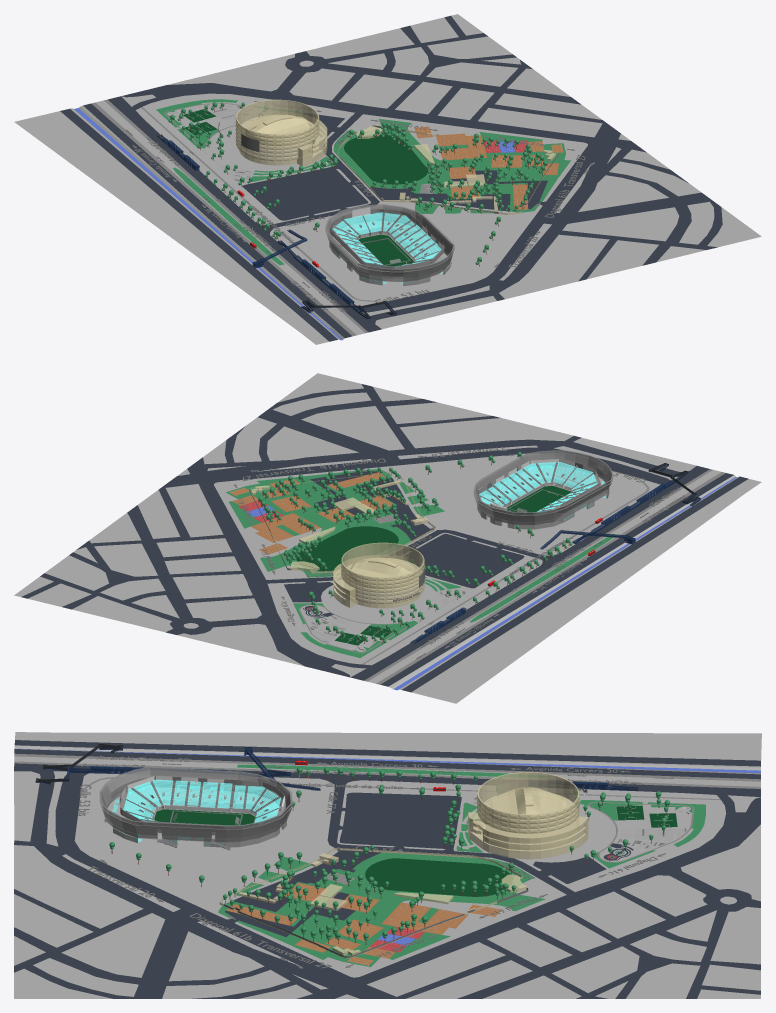
3 views of the same model, one above another, from view 1: azimuth 30°, elevation 25°; view 2: azimuth 150°, elevation 25°; view 3: azimuth 270°, elevation 25° (orthographic). The views are drawn at different scales.
Visible parts, largest first — view 1: Plane, Circle, nivel3, Text.006, planta2, suelorender2, 14393, Cube.005, Cube, plantabaja; view 2: Plane, Circle, nivel3, planta2, Text.006, suelorender2, 14393, Cube, plantabaja; view 3: Plane, Circle, nivel3, planta2, Text.006, suelorender2, 14393, plantabaja, Cube.005, Cube, piso1.001, Cube.014 (+4 smaller).
Part boxes in pixels (box(x1,y1,x2,y2)): Plane: box(14, 14, 761, 344); Circle: box(235, 99, 327, 166); nivel3: box(325, 204, 454, 278); Text.006: box(125, 102, 585, 311); planta2: box(325, 207, 454, 281); suelorender2: box(333, 221, 451, 281); 14393: box(252, 230, 396, 319); Cube.005: box(330, 209, 444, 270); Cube: box(342, 224, 430, 267); plantabaja: box(329, 219, 451, 285); Plane: box(14, 373, 761, 703); Circle: box(333, 542, 424, 608); nivel3: box(473, 450, 613, 521); planta2: box(473, 453, 613, 524); Text.006: box(237, 447, 686, 658); suelorender2: box(480, 466, 607, 523); 14393: box(540, 464, 700, 549); Cube: box(493, 473, 580, 510); plantabaja: box(477, 465, 609, 529); Plane: box(14, 732, 761, 998); Circle: box(468, 772, 588, 859); nivel3: box(99, 766, 292, 837); planta2: box(99, 771, 292, 841); Text.006: box(78, 755, 673, 968); suelorender2: box(104, 787, 281, 841); 14393: box(35, 745, 319, 790); plantabaja: box(104, 786, 286, 847); Cube.005: box(119, 775, 285, 828); Cube: box(164, 782, 235, 812); piso1.001: box(111, 800, 283, 841); Cube.014: box(526, 780, 638, 790).
Size of the model in its own units: 787 by 58.24 by 932.
